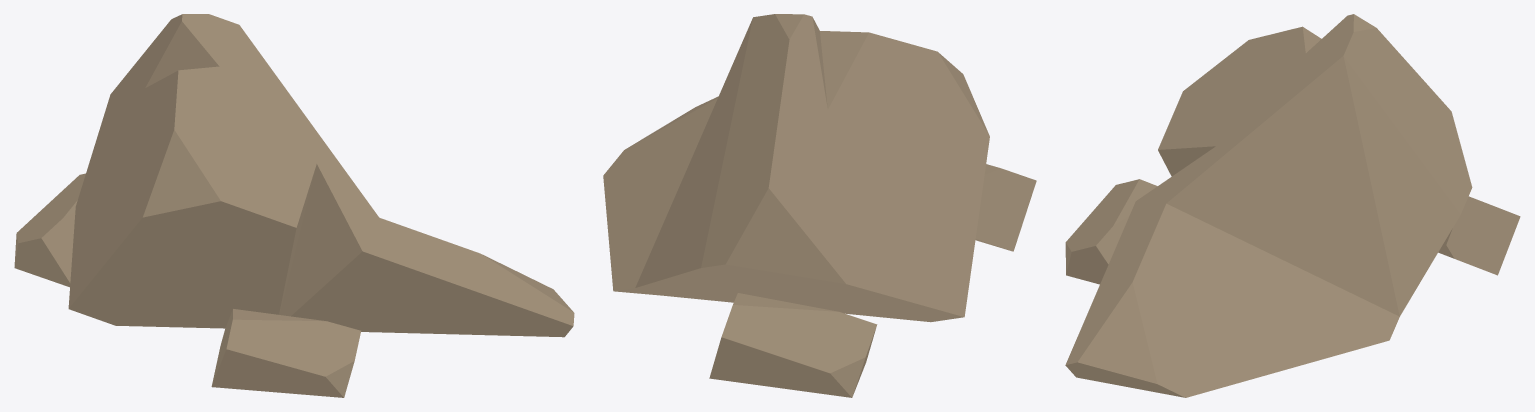
Rendered from rock.glb.
3 renders of one model, left to right at view 1: azimuth 30°, elevation 25°; view 2: azimuth 150°, elevation 25°; view 3: azimuth 270°, elevation 25°, orthographic. The views are drawn at different scales.
Visible parts, largest first — view 1: rock_1, rock_2, rock_3; view 2: rock_1, rock_3, rock_2; view 3: rock_1, rock_2, rock_3.
Boxes of the visible parts, bbox=[...] form: rock_1: bbox=[68, 14, 574, 337]; rock_2: bbox=[211, 309, 360, 397]; rock_3: bbox=[14, 173, 85, 287]; rock_1: bbox=[603, 14, 989, 322]; rock_3: bbox=[709, 293, 877, 397]; rock_2: bbox=[975, 164, 1036, 251]; rock_1: bbox=[1065, 14, 1472, 397]; rock_2: bbox=[1065, 179, 1157, 284]; rock_3: bbox=[1438, 196, 1520, 275].
Size of the model in its own units: 4.01 by 2.65 by 4.21.
1 material, 1 textured.
